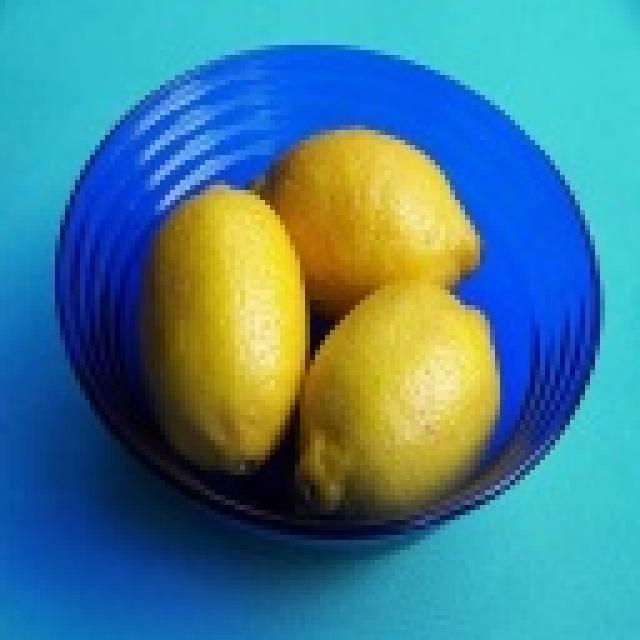lemon: (136, 177, 297, 477), (295, 282, 494, 514), (294, 125, 481, 288)
